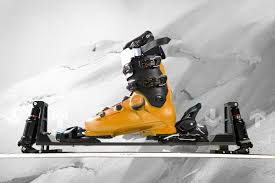skis: (1, 124, 275, 163)
